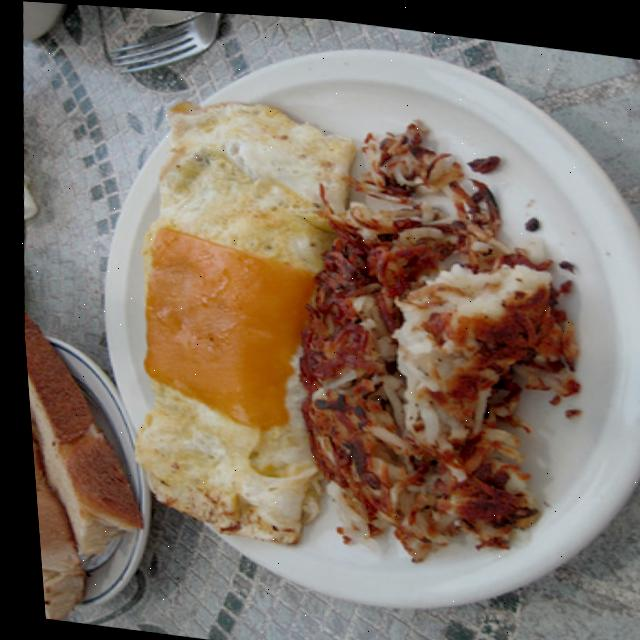鸡蛋料理: (80, 35, 410, 574)
